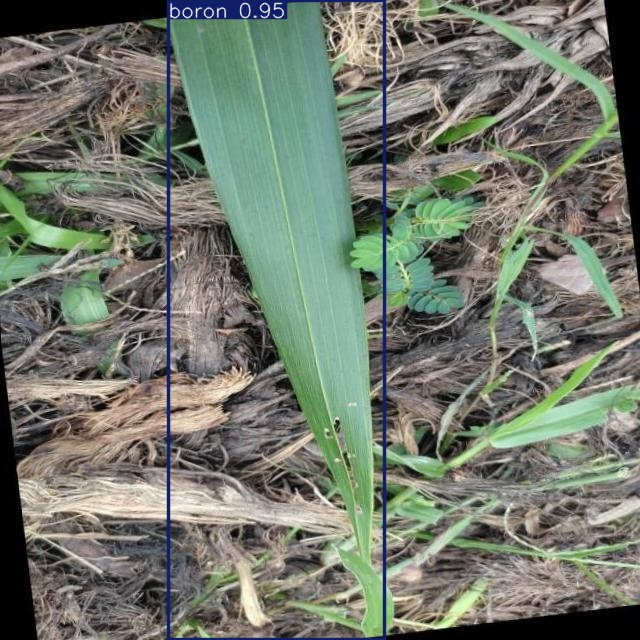nitrogen: (168, 0, 385, 639)
